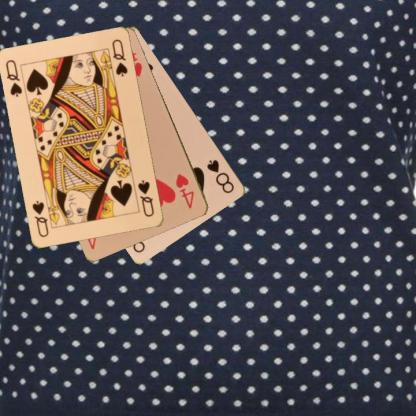4h: (173, 171, 196, 210)
8s: (204, 156, 236, 194)
Qs: (3, 57, 24, 99), (135, 178, 156, 218)
